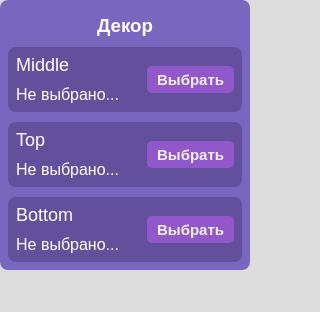
Test: Constructor: DecorSetting › Catalog responsivness › usage selection - will result in categories list
Note: choose usage
Click the button "Выбрать" in the row of "Middle".
click(190, 80)  # box [147,66,234,93]
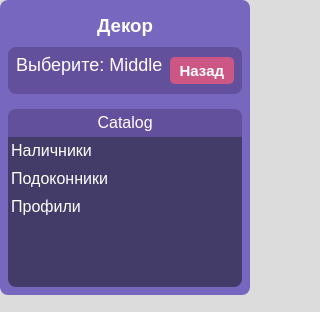
Expected: the text "Выберите: Middle" is shown, [16,55,162,76]
Expected: the text "Наличники" is shown, [11,142,92,159]
